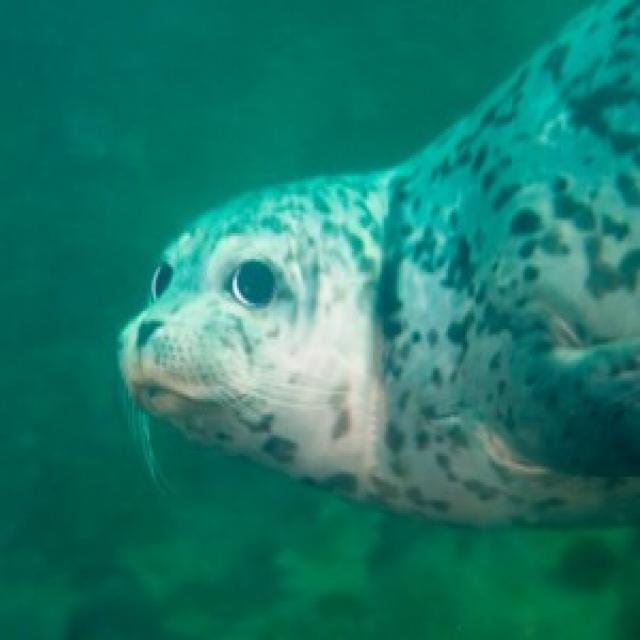Seal: (98, 29, 640, 546)
